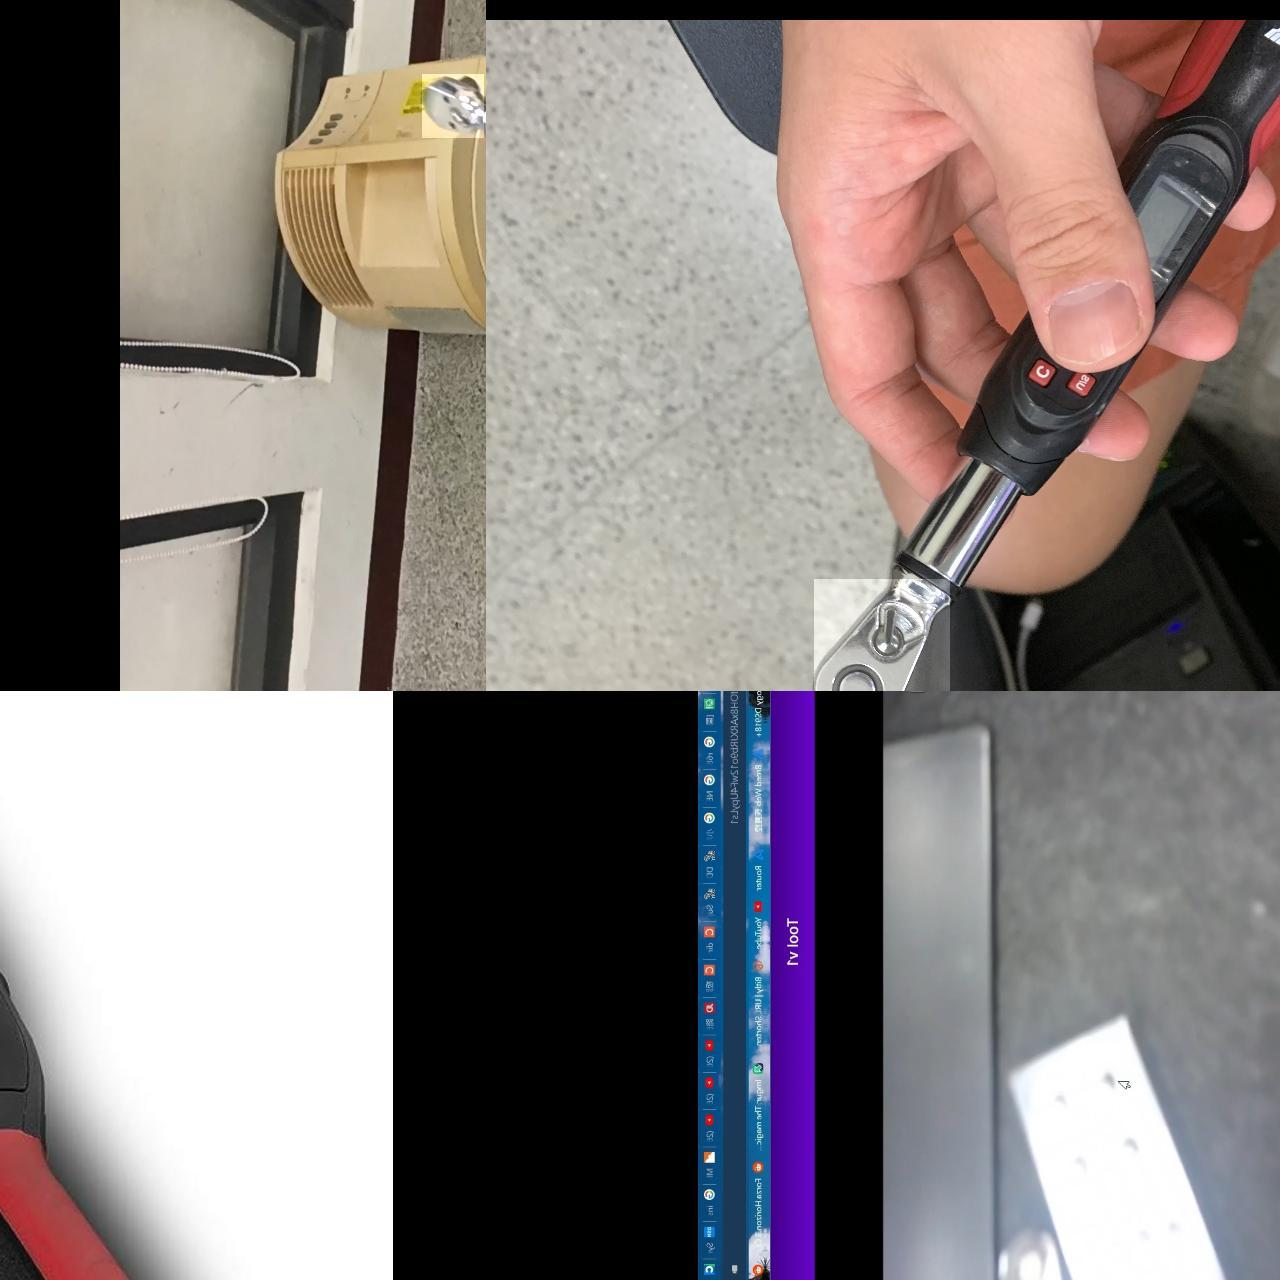Tool: (813, 578, 949, 692), (422, 73, 484, 137)
